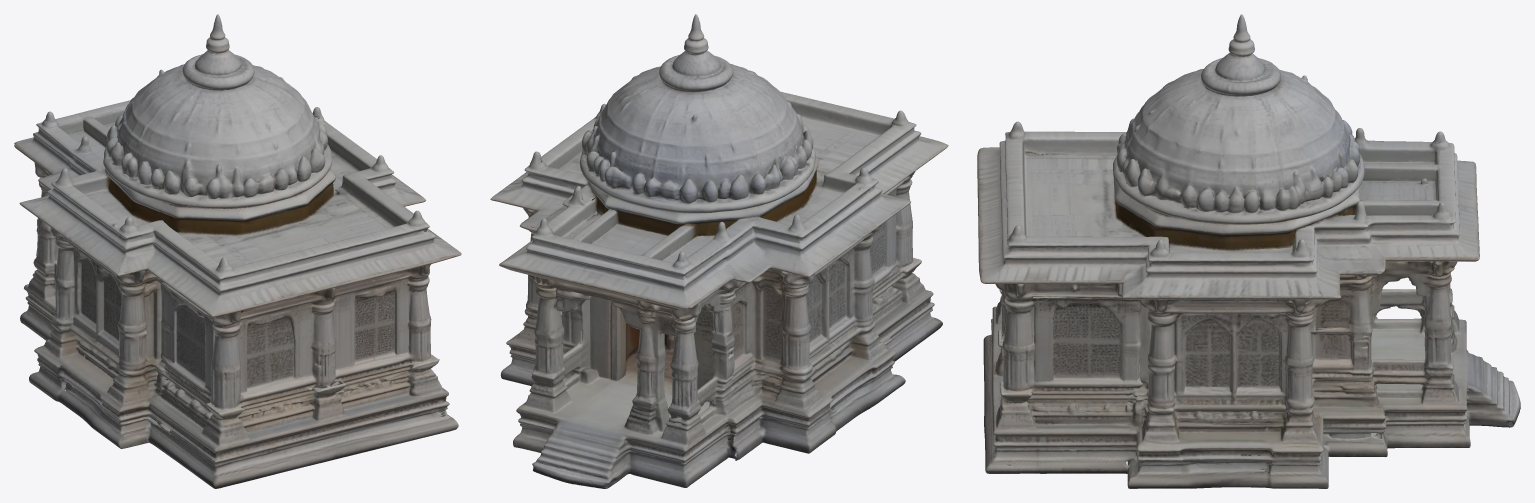
Rendered from dilwara_temples.glb.
3 views of the same model, side by side, from view 1: azimuth 30°, elevation 25°; view 2: azimuth 150°, elevation 25°; view 3: azimuth 270°, elevation 25° (orthographic). The views are drawn at different scales.
Parts seen in each view (by area): view 1: tripo_node_1ddcb99a-e3b3-4863-b862-3bdbc6d8be7d; view 2: tripo_node_1ddcb99a-e3b3-4863-b862-3bdbc6d8be7d; view 3: tripo_node_1ddcb99a-e3b3-4863-b862-3bdbc6d8be7d.
Part boxes in pixels (x1,y1,x2,y2): tripo_node_1ddcb99a-e3b3-4863-b862-3bdbc6d8be7d: (14,14,461,488); tripo_node_1ddcb99a-e3b3-4863-b862-3bdbc6d8be7d: (490,14,948,488); tripo_node_1ddcb99a-e3b3-4863-b862-3bdbc6d8be7d: (977,14,1520,488).
Size of the model in its own units: 0.7194 by 0.805 by 1.
1 material, 1 textured.
